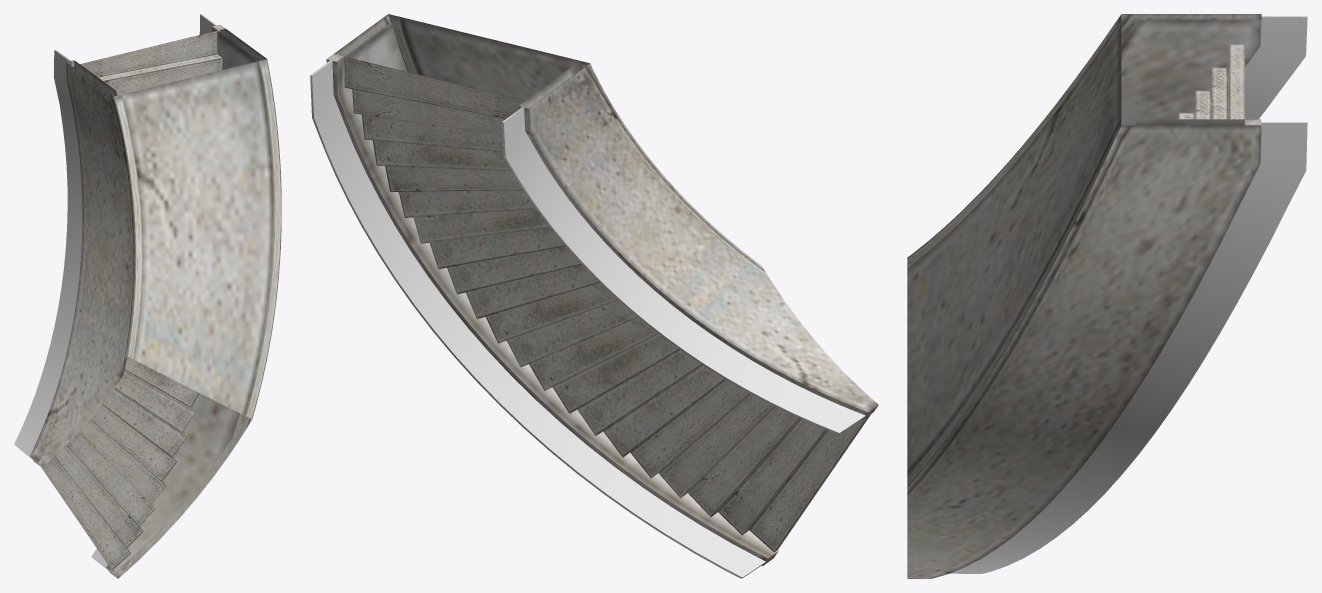
Rendered from SM_SYD_StairwellCurved01.fbx.
The picture shows the model from 3 angles, left to right: view 1: azimuth 30°, elevation 25°; view 2: azimuth 150°, elevation 25°; view 3: azimuth 270°, elevation 25°; orthographic projection. The views are drawn at different scales.
Parts seen in each view (by area): view 1: SM_SYD_StairwellCurved01; view 2: SM_SYD_StairwellCurved01; view 3: SM_SYD_StairwellCurved01.
Part boxes in pixels (bbox=[...]): SM_SYD_StairwellCurved01: bbox=[14, 14, 281, 578]; SM_SYD_StairwellCurved01: bbox=[310, 14, 878, 578]; SM_SYD_StairwellCurved01: bbox=[907, 14, 1307, 578].
Bounding box in the file's own units: 785 × 1029 × 608.
